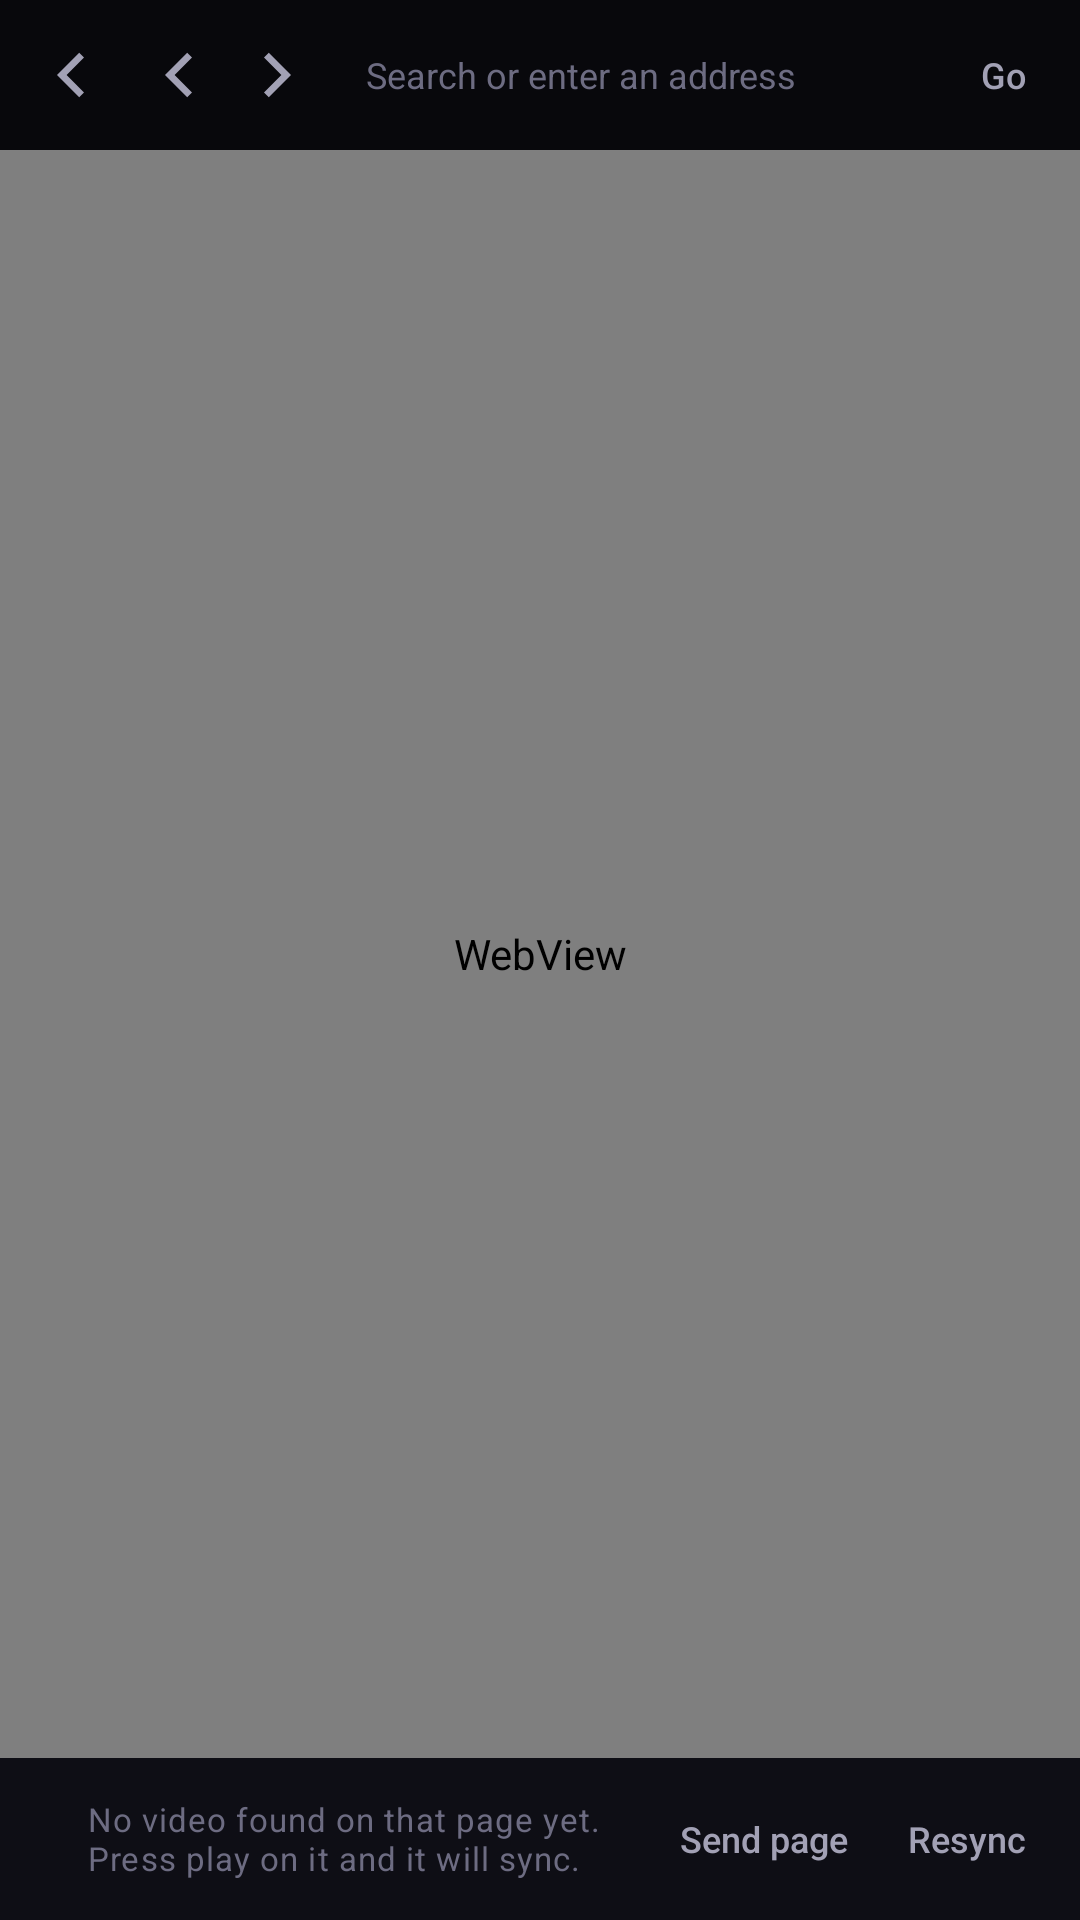

Icons on this 1080px×1920px Android screen, each with its box as (x1, y1, x2, y2):
Back: (57, 53, 84, 97)
Back in page: (165, 53, 192, 97)
Forward in page: (264, 53, 291, 97)
